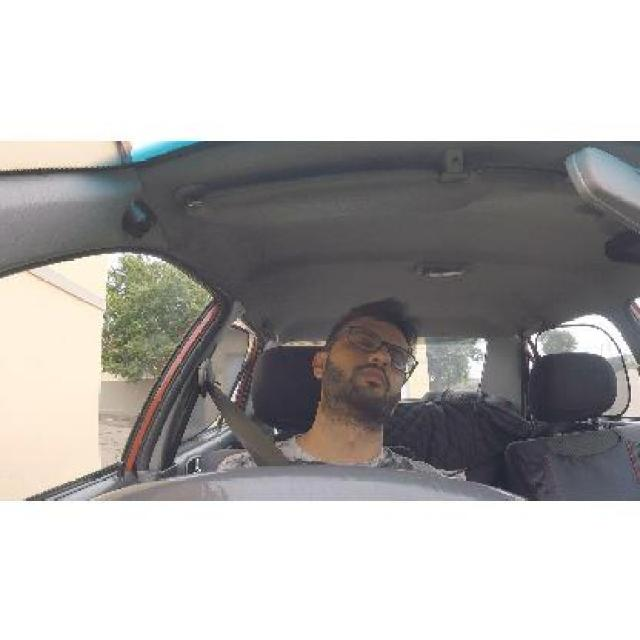drowsy: (298, 273, 443, 494)
